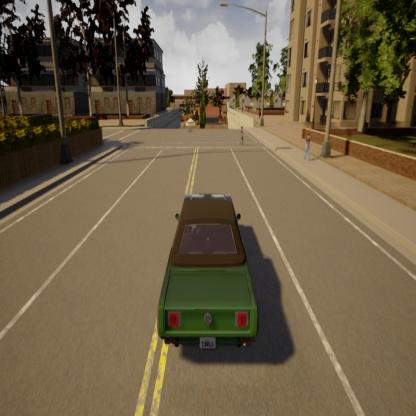Cars: (153, 191, 262, 362)
Pedestrian: (305, 129, 312, 162), (239, 120, 246, 148), (182, 114, 186, 128)
